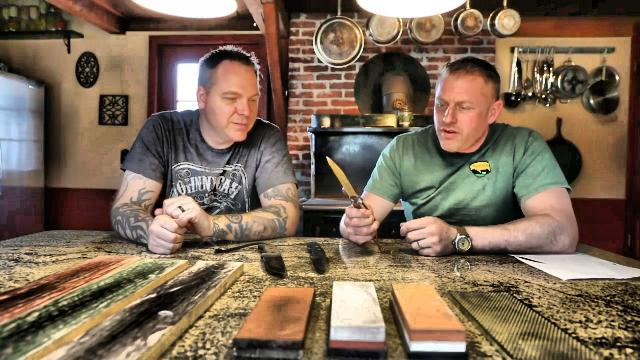knife: (321, 148, 382, 240)
